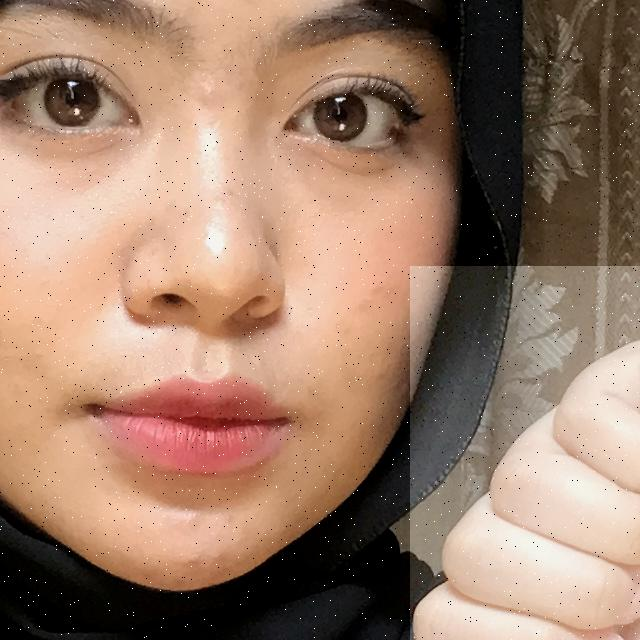sedih: (410, 266, 640, 640)
